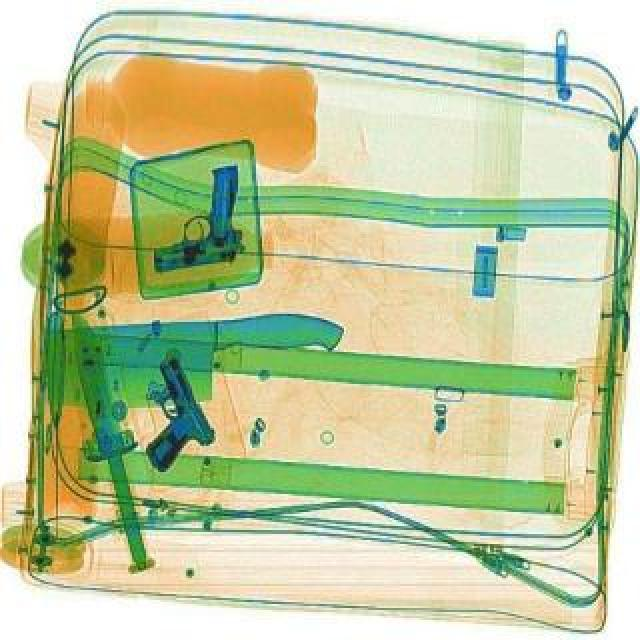gun: (106, 352, 222, 472), (136, 160, 254, 272)
knife: (36, 306, 348, 412), (60, 308, 156, 566)
